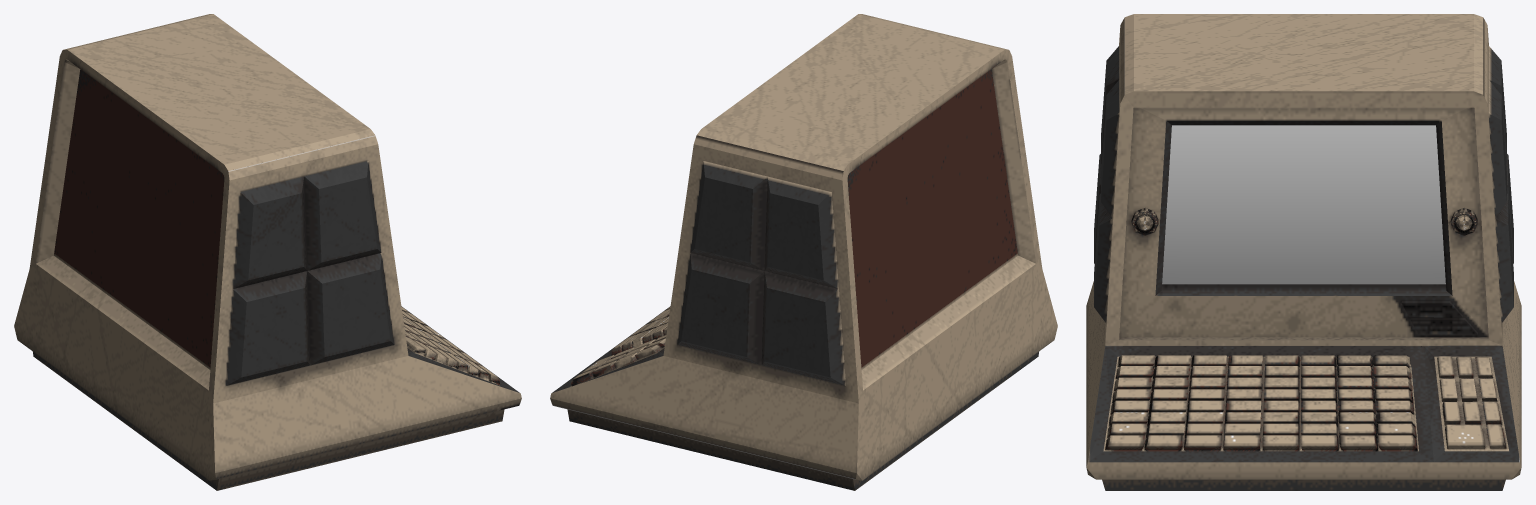
Rendered from Terminal_full.fbx.
3 renders of one model, left to right at view 1: azimuth 30°, elevation 25°; view 2: azimuth 150°, elevation 25°; view 3: azimuth 270°, elevation 25°, orthographic. The views are drawn at different scales.
Visible parts, largest first — view 1: Terminal.001; view 2: Terminal.001; view 3: Terminal.001, Screen.
Boxes of the visible parts, x1,y1,x2,y2 form: Terminal.001: [14, 14, 521, 490]; Terminal.001: [550, 14, 1057, 490]; Terminal.001: [1086, 14, 1521, 490]; Screen: [1162, 125, 1445, 284].
Bounding box in the file's own units: 221 × 213 × 249.
